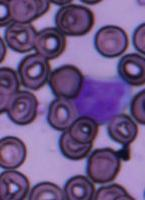M: (70, 74, 132, 125)
